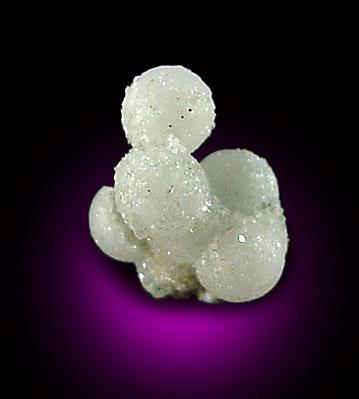prehnite: (89, 66, 289, 304)
